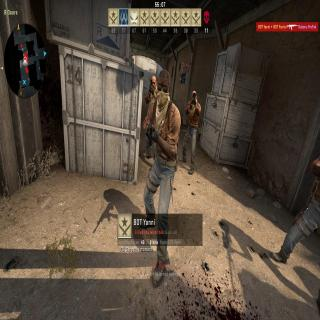T-Body: (138, 63, 180, 291), (275, 145, 320, 288), (182, 90, 200, 170)
T-Head: (156, 71, 170, 108), (150, 74, 156, 93), (192, 90, 196, 104)
